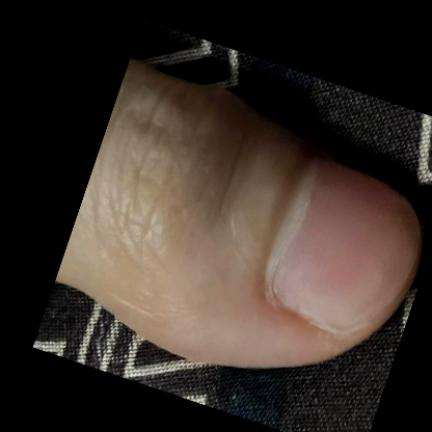Nail: (266, 161, 418, 336)
